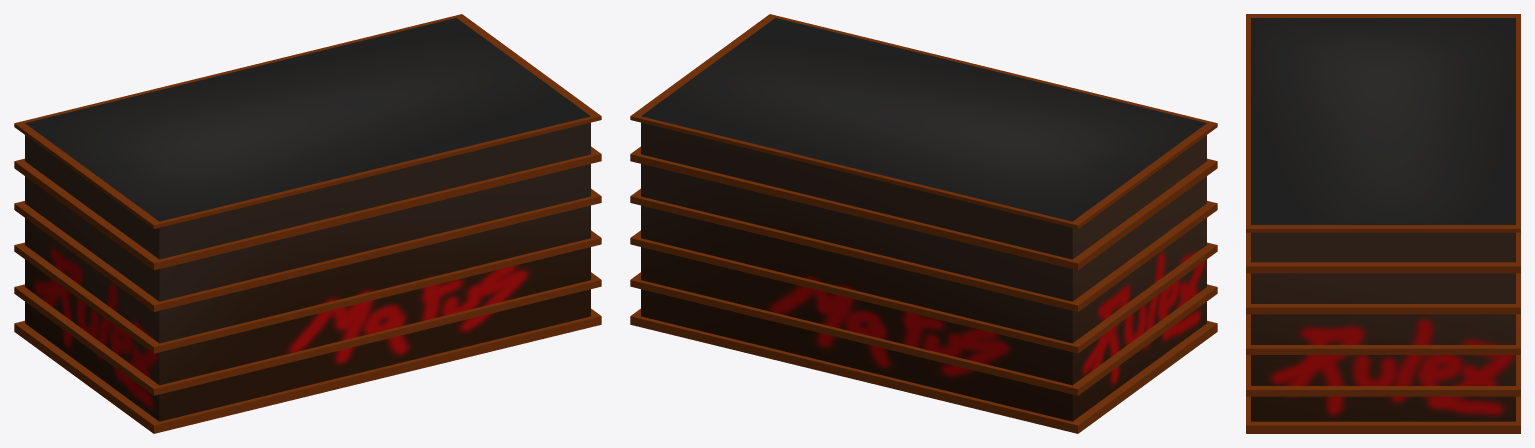
File: EdificioPro 3 Gigante.FBX
3 renders of one model, left to right at view 1: azimuth 30°, elevation 25°; view 2: azimuth 150°, elevation 25°; view 3: azimuth 270°, elevation 25°, orthographic.
Parts seen in each view (by area): view 1: default; view 2: default; view 3: default.
Boxes of the visible parts, <box> form: default: <box>14,14,601,433</box>; default: <box>630,14,1217,433</box>; default: <box>1246,14,1520,433</box>.
Size of the model in its own units: 17.68 by 7.86 by 9.55.
1 material, 1 textured.
